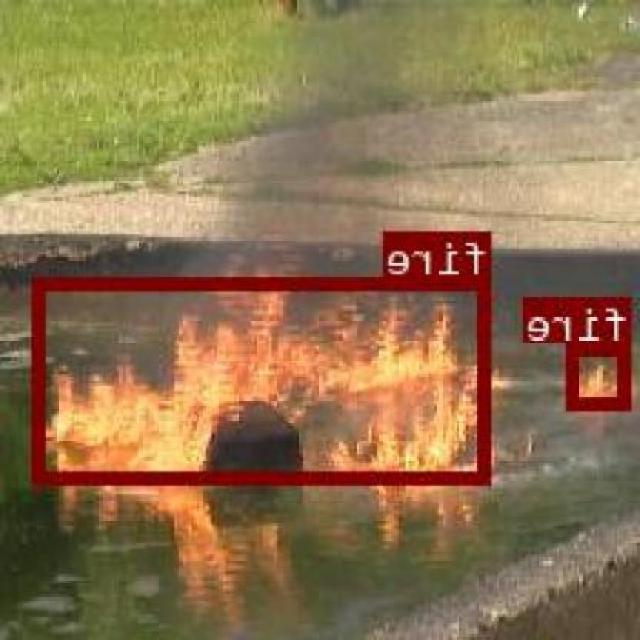Fire: (35, 274, 494, 482), (570, 343, 632, 408)
